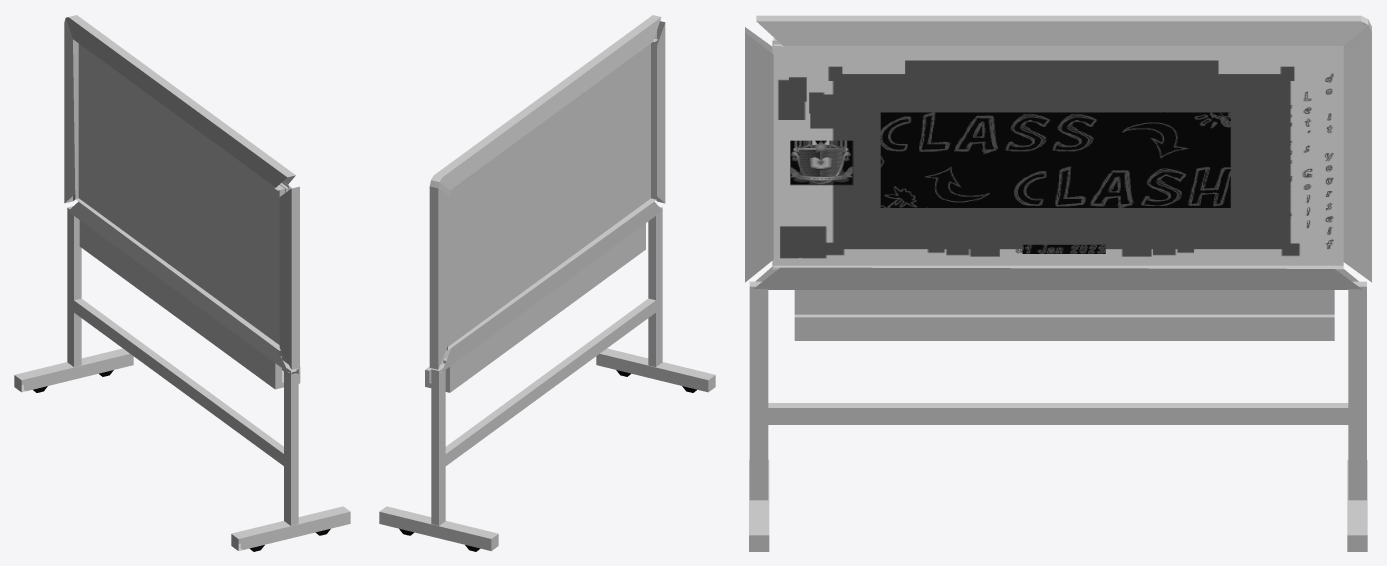
Rendered from papan tulis.fbx.
The picture shows the model from 3 angles, left to right: view 1: azimuth 30°, elevation 25°; view 2: azimuth 150°, elevation 25°; view 3: azimuth 270°, elevation 25°; orthographic projection. The views are drawn at different scales.
Parts seen in each view (by area): view 1: Cube.003, Cube.005; view 2: Cube.003, Cube.005; view 3: coretanpapantulis, Cube.003, Cube.005.
Part boxes in pixels (<box>): Cube.003: <box>64,15,300,389</box>; Cube.005: <box>14,206,350,551</box>; Cube.003: <box>425,15,665,392</box>; Cube.005: <box>379,206,715,551</box>; coretanpapantulis: <box>772,40,1343,269</box>; Cube.003: <box>745,15,1371,340</box>; Cube.005: <box>749,281,1367,551</box>.
Size of the model in its own units: 3.32 by 10.36 by 11.66.
